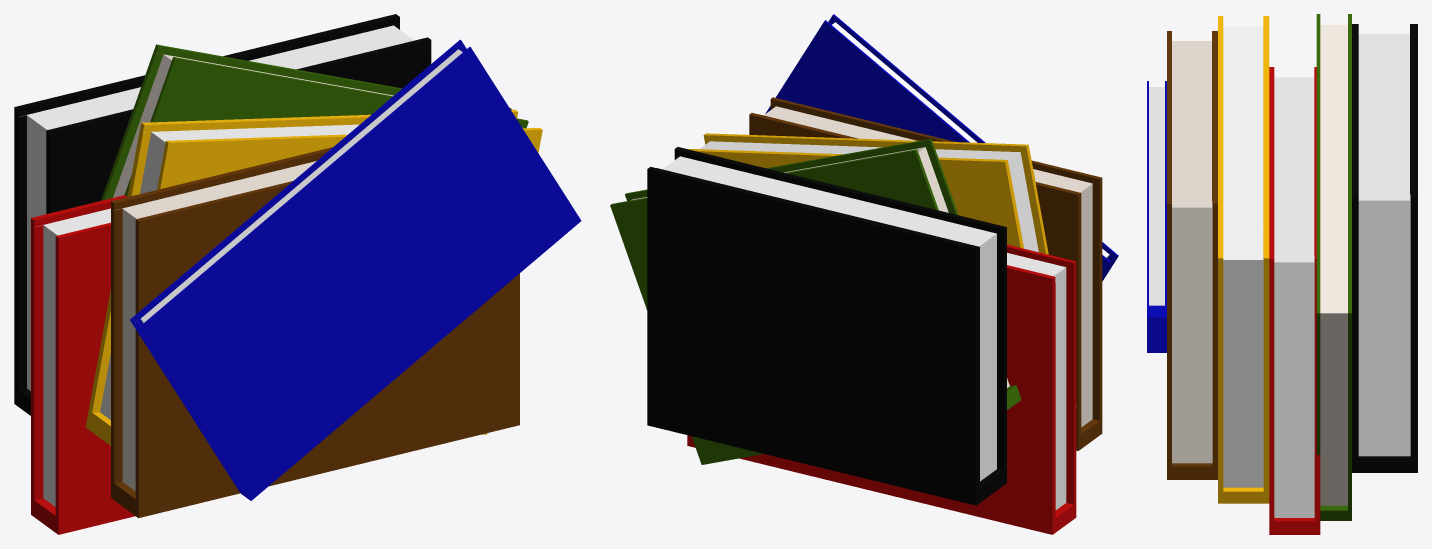
3 renders of one model, left to right at view 1: azimuth 30°, elevation 25°; view 2: azimuth 150°, elevation 25°; view 3: azimuth 270°, elevation 25°, orthographic. The views are drawn at different scales.
Visible parts, largest first — view 1: stack of books; view 2: stack of books; view 3: stack of books.
Boxes of the visible parts, left/top/right/bottom form: stack of books: left=14, top=14, right=581, bottom=534; stack of books: left=610, top=14, right=1118, bottom=534; stack of books: left=1147, top=14, right=1417, bottom=534.
Bounding box in the file's own units: 11.36 × 9.91 × 5.78.
